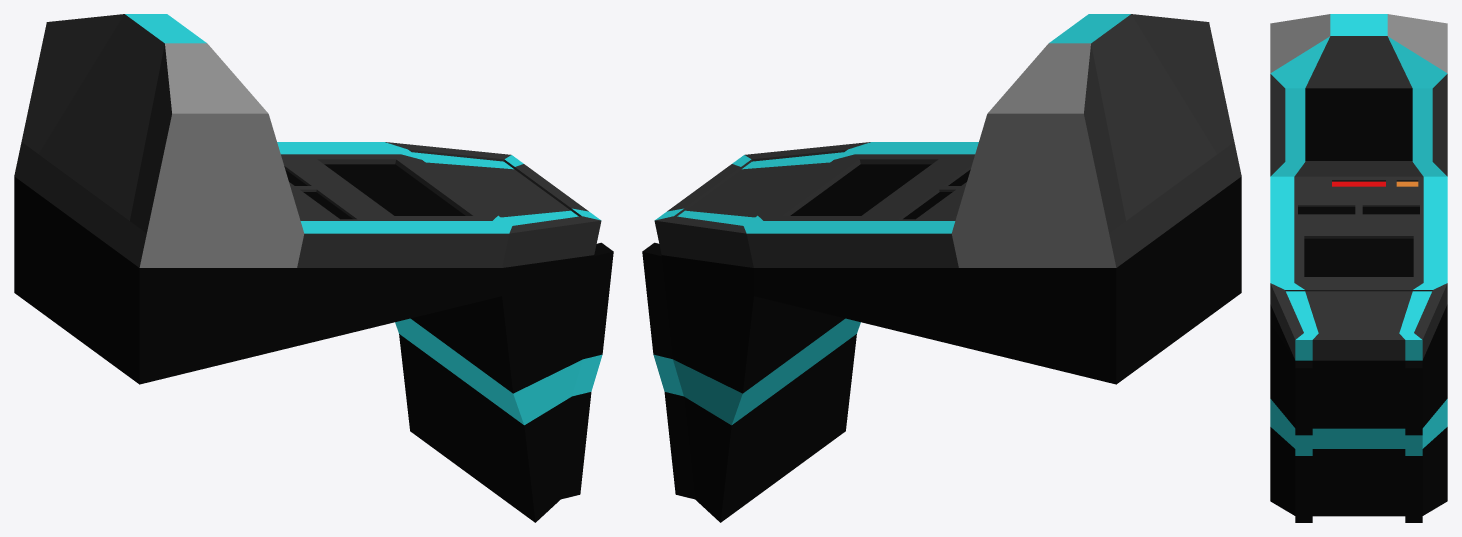
Rendered from device2.fbx.
The picture shows the model from 3 angles, left to right: view 1: azimuth 30°, elevation 25°; view 2: azimuth 150°, elevation 25°; view 3: azimuth 270°, elevation 25°; orthographic projection. The views are drawn at different scales.
Parts seen in each view (by area): view 1: device2; view 2: device2; view 3: device2.
Part boxes in pixels (<box>): device2: <box>14,14,613,522</box>; device2: <box>642,14,1241,522</box>; device2: <box>1270,14,1447,522</box>.
Size of the model in its own units: 159 by 163 by 70.25.
